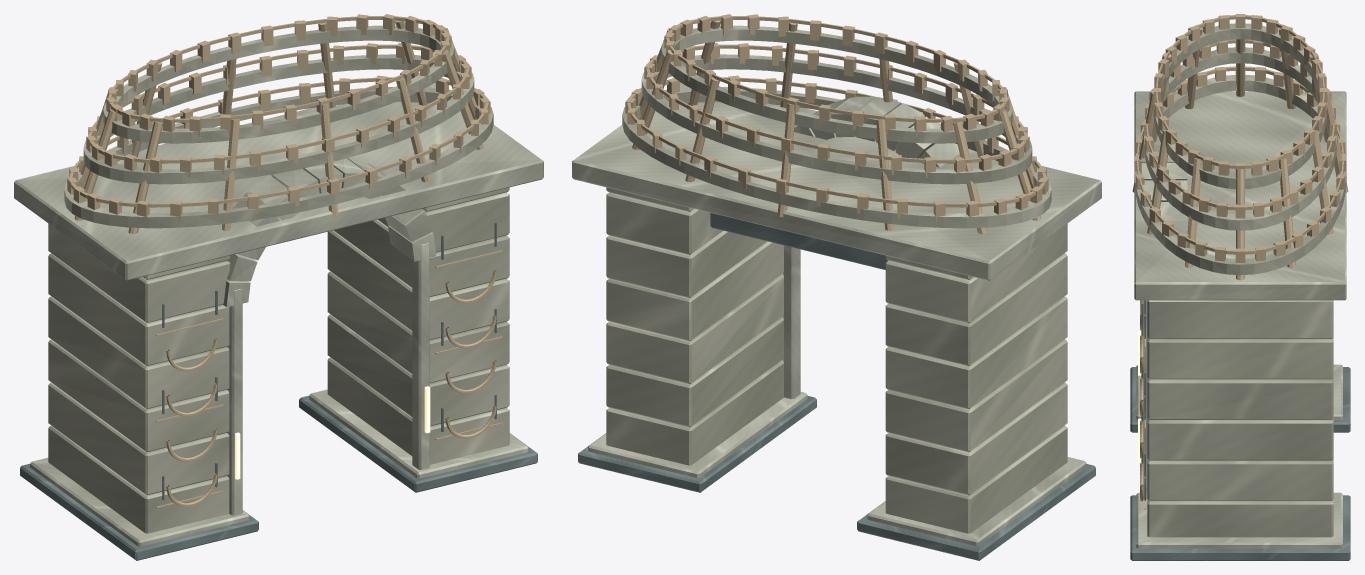
Rendered from portal-sift-v01.glb.
The picture shows the model from 3 angles, left to right: view 1: azimuth 30°, elevation 25°; view 2: azimuth 150°, elevation 25°; view 3: azimuth 270°, elevation 25°; orthographic projection. The views are drawn at different scales.
Parts seen in each view (by area): view 1: sift_Mumu_ivory_limestone, sift_Mumu_chisel_edges, sift_Mumu_satin_brass, sift_Mumu_blue_slate; view 2: sift_Mumu_ivory_limestone, sift_Mumu_chisel_edges, sift_Mumu_satin_brass, sift_Mumu_blue_slate; view 3: sift_Mumu_ivory_limestone, sift_Mumu_chisel_edges, sift_Mumu_satin_brass, sift_Mumu_blue_slate.
Boxes of the visible parts, x1,y1,x2,y2 form: sift_Mumu_ivory_limestone: (48, 25, 509, 533); sift_Mumu_chisel_edges: (14, 83, 543, 546); sift_Mumu_satin_brass: (67, 14, 502, 508); sift_Mumu_blue_slate: (20, 222, 537, 560); sift_Mumu_ivory_limestone: (606, 25, 1067, 533); sift_Mumu_chisel_edges: (572, 83, 1101, 545); sift_Mumu_satin_brass: (625, 14, 1048, 234); sift_Mumu_blue_slate: (578, 213, 1095, 560); sift_Mumu_ivory_limestone: (1134, 23, 1346, 537); sift_Mumu_chisel_edges: (1134, 91, 1346, 548); sift_Mumu_satin_brass: (1132, 14, 1348, 509); sift_Mumu_blue_slate: (1130, 300, 1350, 560).
Bounding box in the file's own units: 6.2 × 5.7 × 3.
5 materials, 3 textured.
